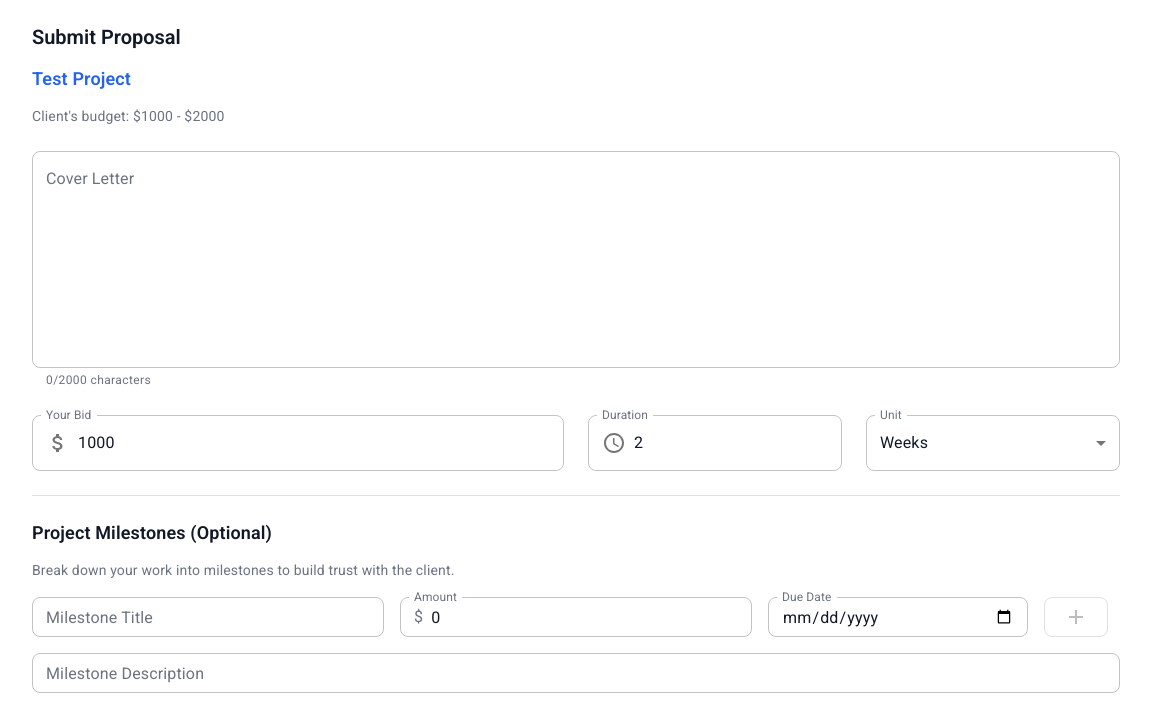
Test: ProposalForm › validates cover letter length
This screenshot has width=1152, height=711.
# Enter short cover letter
Replace the text in the text box labelled "Cover Letter" with "Too short" at (576, 260), box [46,168,1106,352]
(page scrolled)
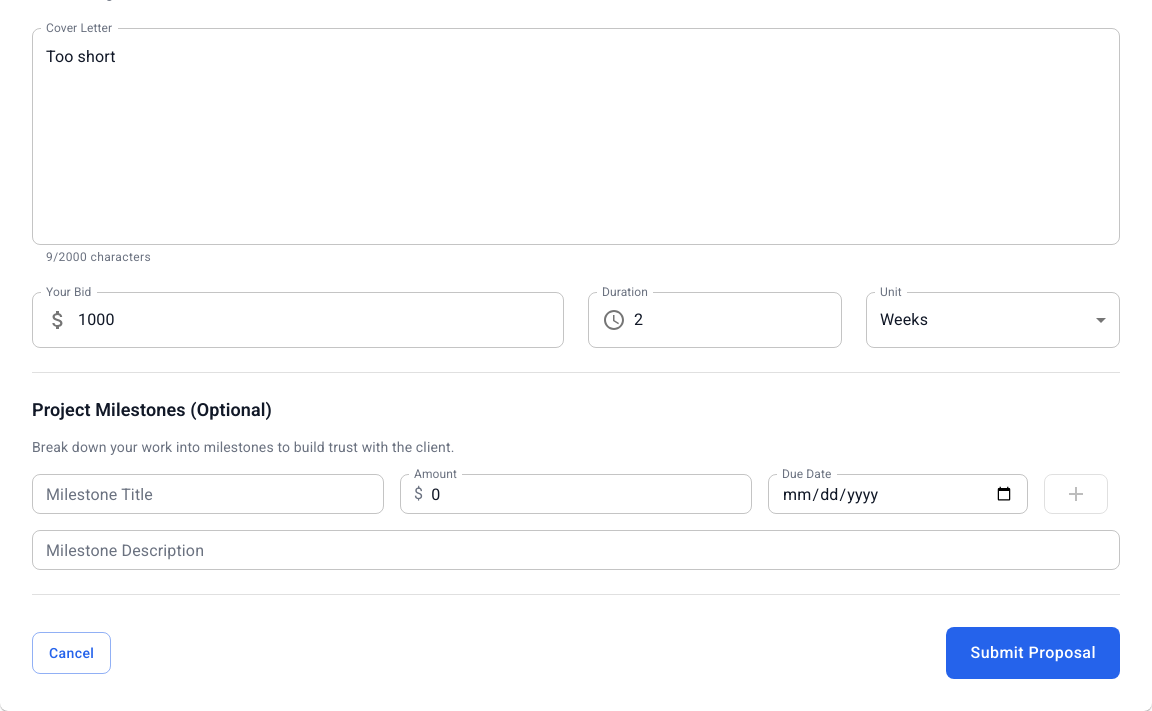
Click the button "Submit Proposal".
click(1033, 653)  # box [946,627,1120,679]
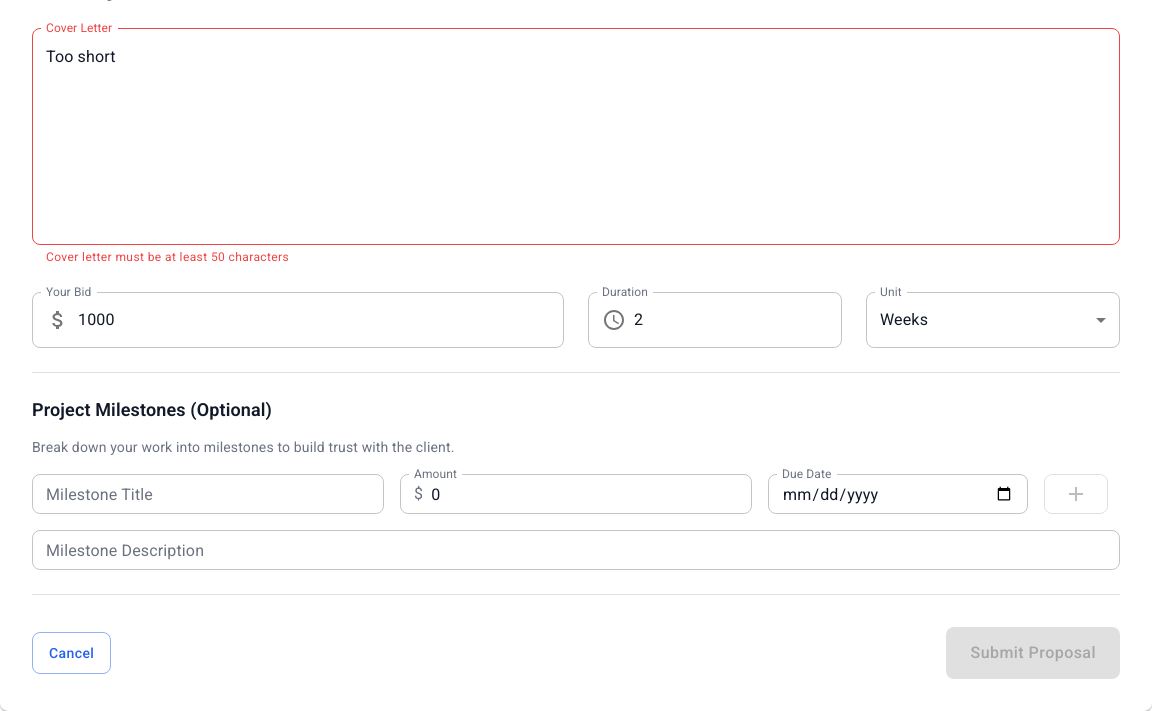
Expected: the text "Cover letter must be at least 50 characters" is shown, [46,250,289,264]
